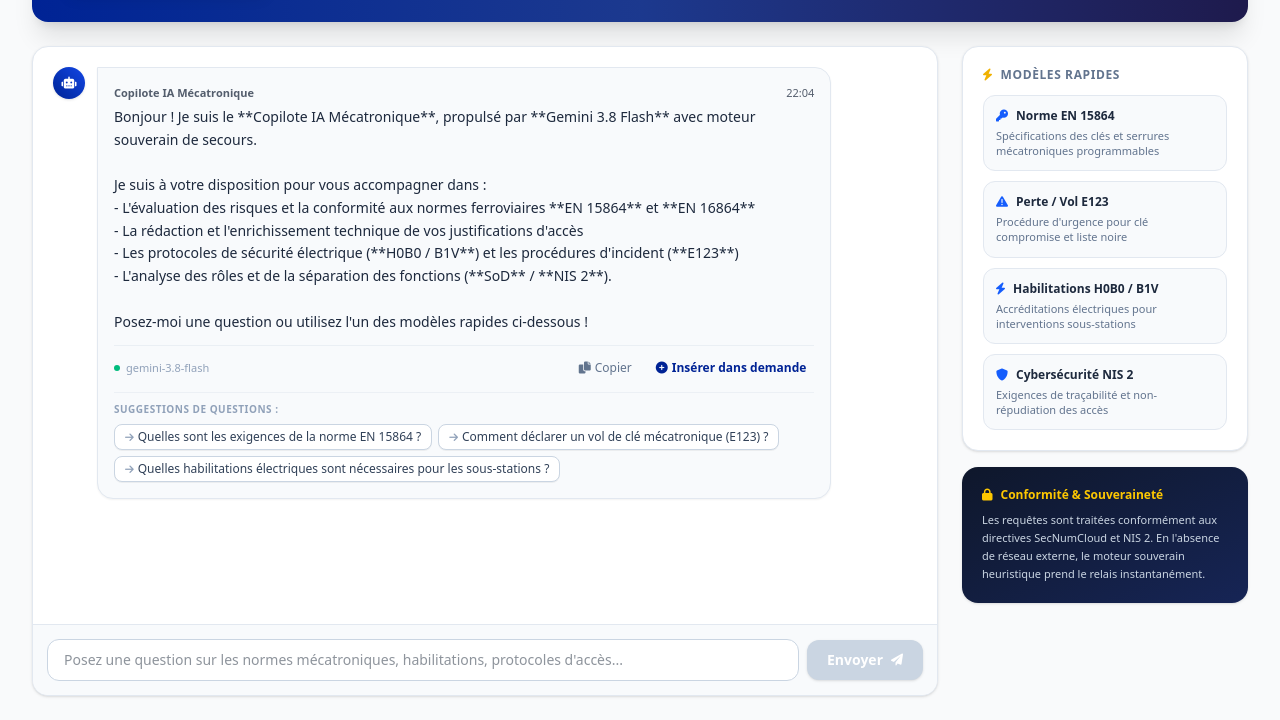
Test: AssistantIA Page Component › allows sending a chat message and receiving response with suggestions
The image size is (1280, 720).
(page scrolled)
Replace the text in the field with placeholder "Posez une question sur les normes mécatroniques" with "Explication norme EN 15864" at (423, 660), box [47, 639, 799, 681]
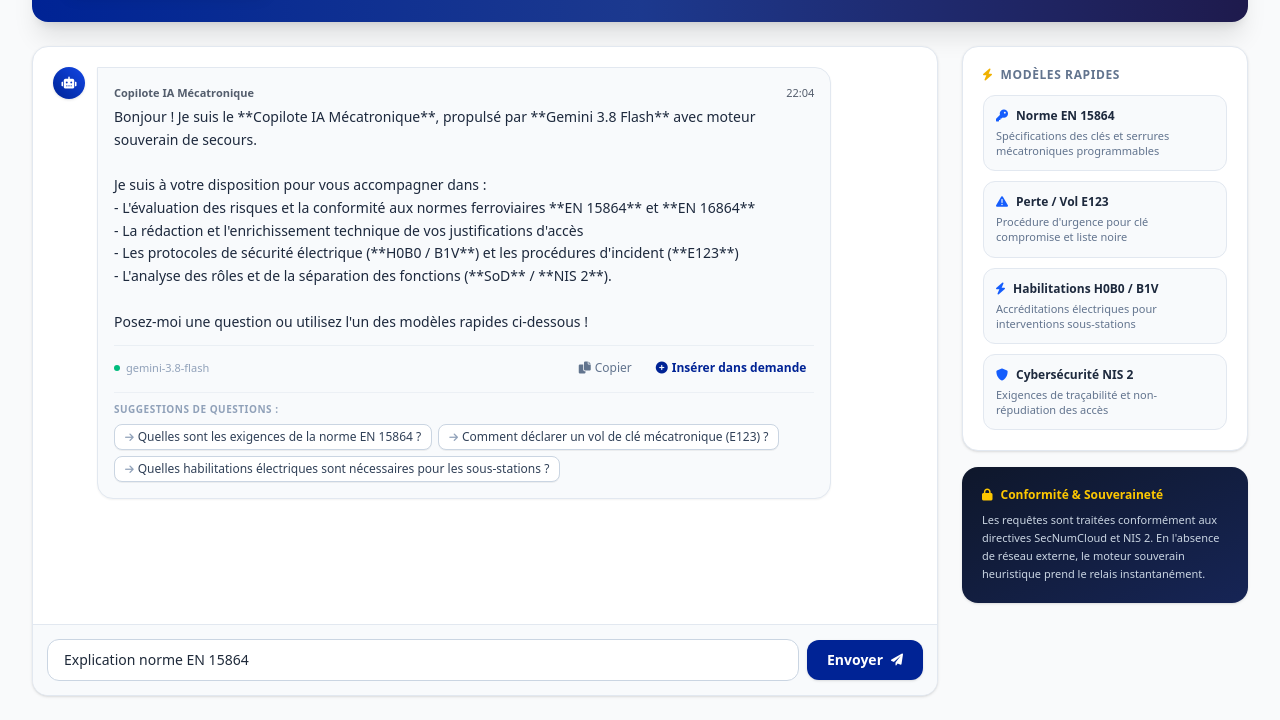
Click the button "Envoyer" at (865, 660), box [807, 640, 923, 680]
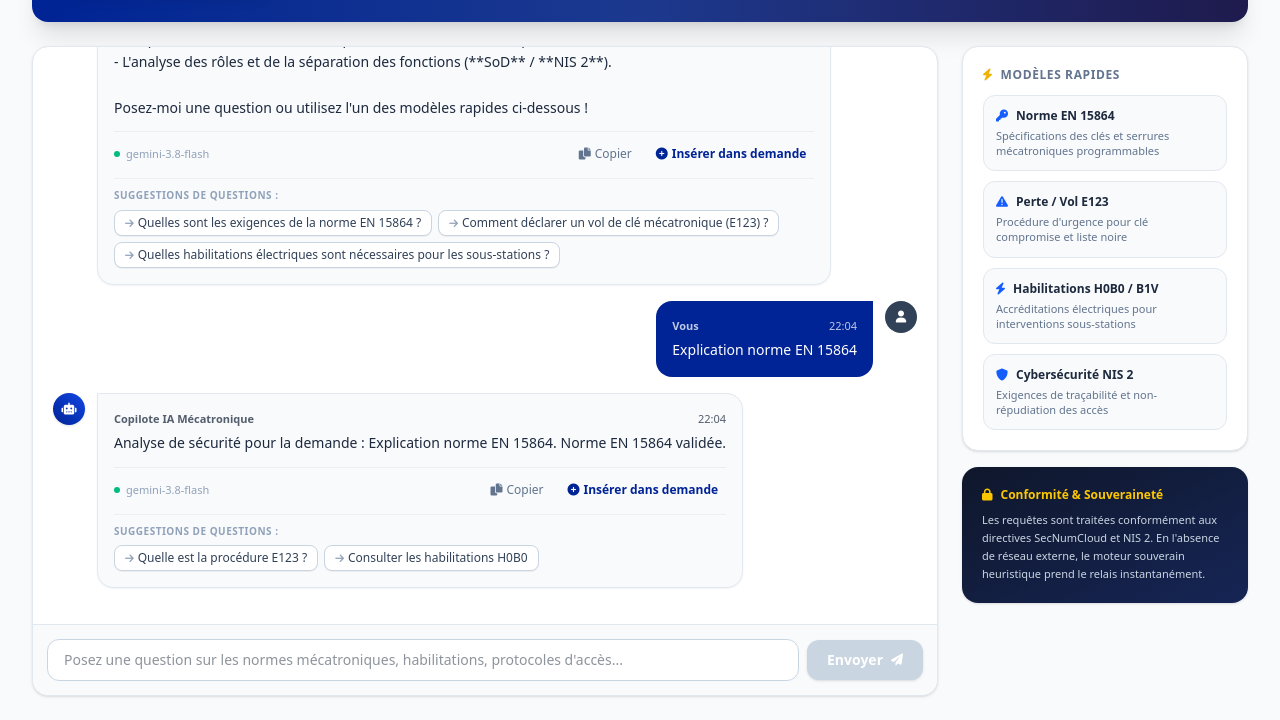
Expected: the text "Analyse de sécurité pour la demande : Explication norme EN 15864" is shown, [114, 433, 726, 452]
Expected: the button "Quelle est la procédure E123 ?" is shown, [114, 545, 318, 571]
